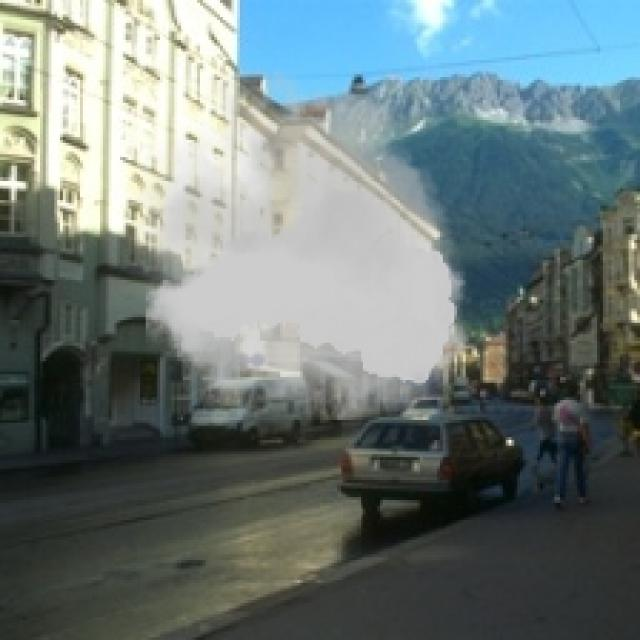smoke: (123, 46, 480, 451)
